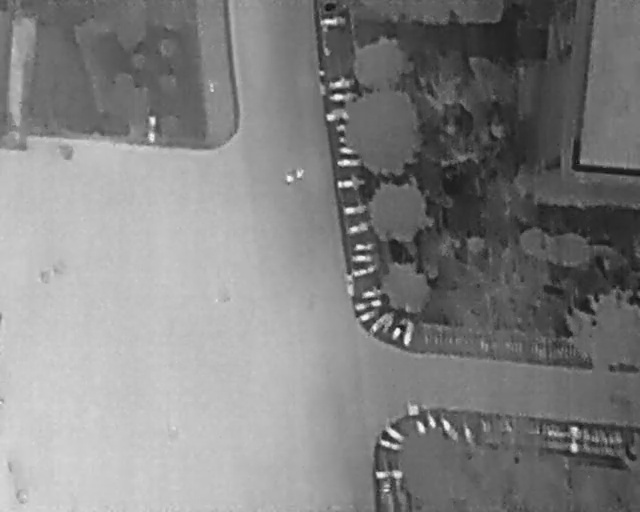Bicycle: (438, 414, 459, 441), (356, 305, 384, 324), (384, 424, 408, 446), (353, 296, 381, 312), (377, 437, 403, 454), (390, 317, 407, 341), (423, 408, 440, 431), (328, 77, 355, 91), (335, 177, 365, 189), (352, 264, 377, 278), (362, 285, 387, 297), (404, 319, 414, 347), (346, 222, 367, 235), (319, 17, 346, 27), (337, 157, 362, 167), (343, 204, 365, 215), (375, 472, 402, 480), (329, 93, 355, 101), (351, 254, 373, 263), (353, 243, 373, 251)
Person: (296, 166, 306, 180), (285, 171, 294, 185)
